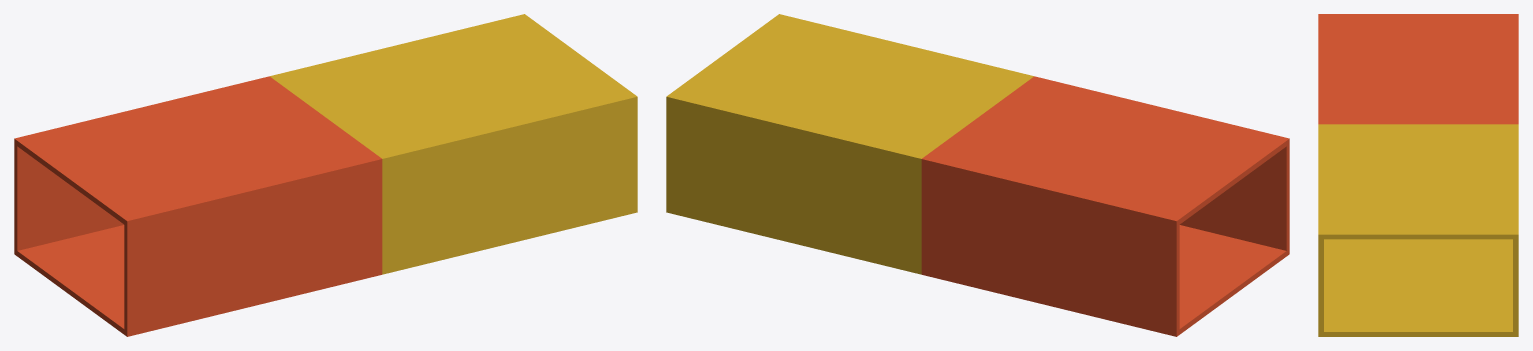
Rendered from fluidized_bed_dryer_temperature.glb.
3 views of the same model, side by side, from view 1: azimuth 30°, elevation 25°; view 2: azimuth 150°, elevation 25°; view 3: azimuth 270°, elevation 25° (orthographic). The views are drawn at different scales.
Parts seen in each view (by area): view 1: temperature__front, temperature__back; view 2: temperature__back, temperature__front; view 3: temperature__back, temperature__front.
Boxes of the visible parts, box(x1,y1,x2,y2) form: temperature__front: box(70, 55, 637, 336); temperature__back: box(14, 14, 580, 295); temperature__back: box(666, 55, 1233, 336); temperature__front: box(723, 14, 1289, 295); temperature__back: box(1418, 14, 1518, 336); temperature__front: box(1318, 14, 1418, 336).
Size of the model in its own units: 2.4 by 0.52 by 0.92.
